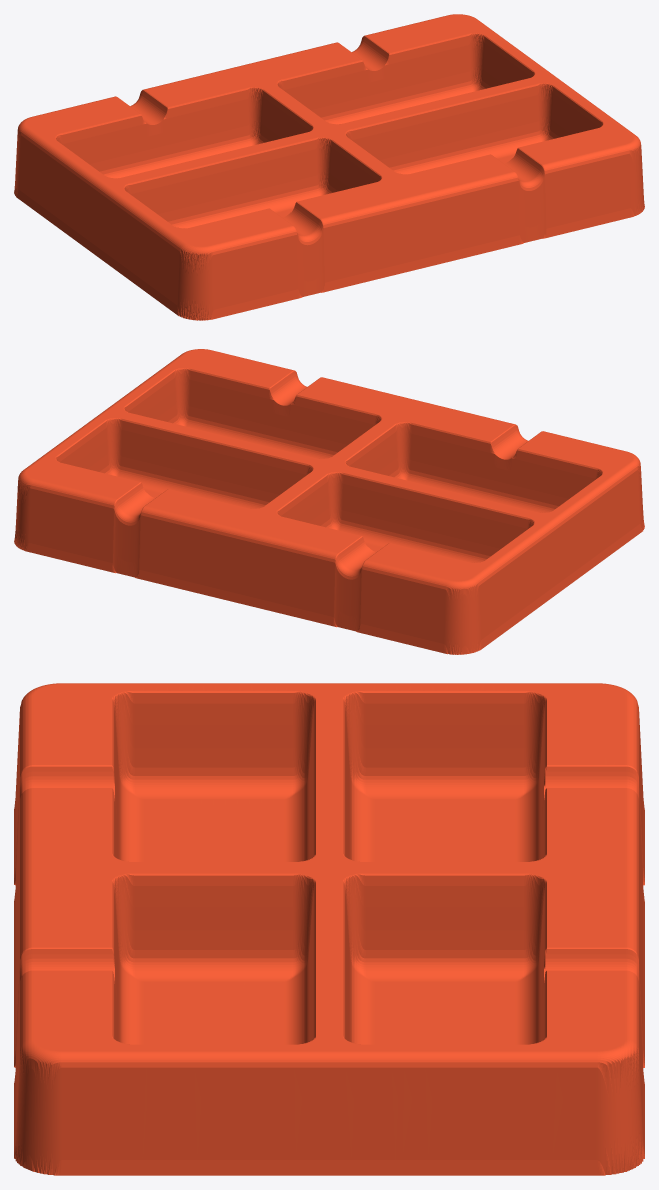
Rendered from mold.glb.
3 views of the same model, one above another, from view 1: azimuth 30°, elevation 25°; view 2: azimuth 150°, elevation 25°; view 3: azimuth 270°, elevation 25° (orthographic). The views are drawn at different scales.
Visible parts, largest first — view 1: geometry_0; view 2: geometry_0; view 3: geometry_0.
Boxes of the visible parts, x1=… form: geometry_0: x1=14, y1=14, x2=644, y2=320; geometry_0: x1=14, y1=349, x2=644, y2=654; geometry_0: x1=14, y1=683, x2=644, y2=1175.
Bounding box in the file's own units: 0.1726 × 0.0245 × 0.1203.
